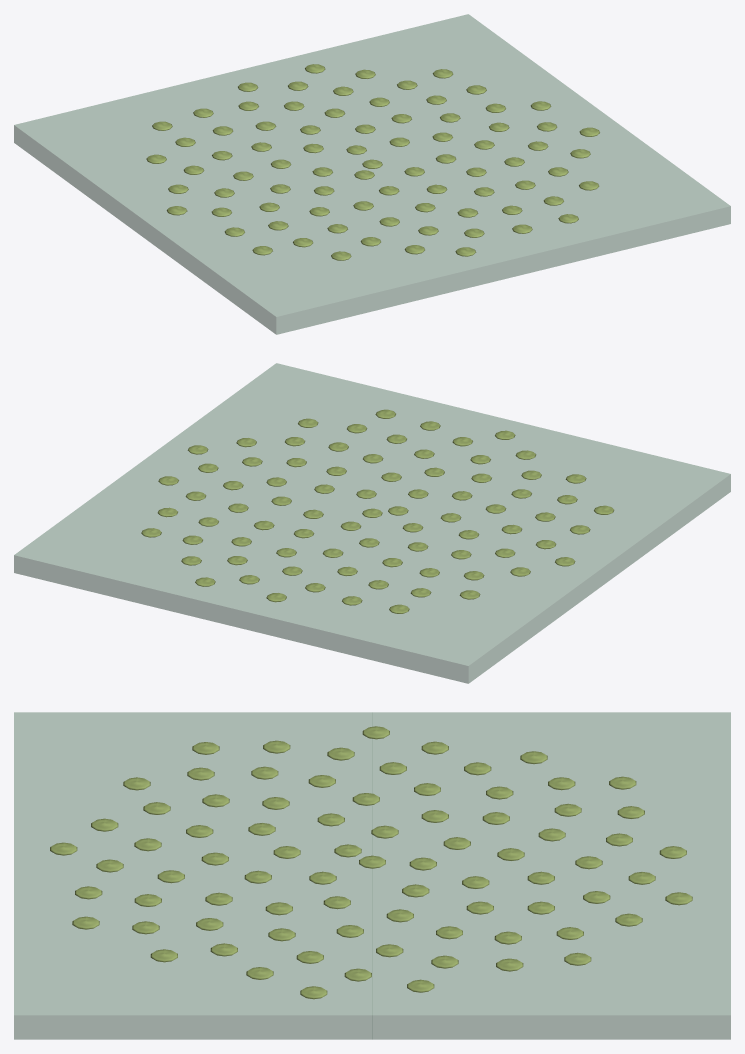
File: duckweed_tile_swamp_and_mangrove_22626.glb
3 renders of one model, top to bottom at view 1: azimuth 30°, elevation 25°; view 2: azimuth 150°, elevation 25°; view 3: azimuth 270°, elevation 25°, orthographic. The views are drawn at different scales.
Visible parts, largest first — view 1: duckweed-tile; view 2: duckweed-tile; view 3: duckweed-tile.
Part boxes in pixels (x1=…): duckweed-tile: x1=14, y1=14, x2=730, y2=334; duckweed-tile: x1=14, y1=363, x2=730, y2=683; duckweed-tile: x1=14, y1=712, x2=730, y2=1039.
Bounding box in the file's own units: 4 × 0.176 × 4.
2 materials, 1 textured.
